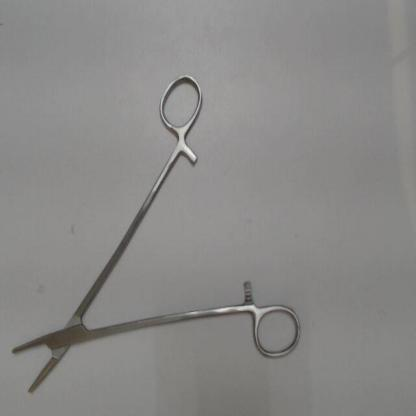8 Mayo Needle Holder: (5, 63, 312, 408)
